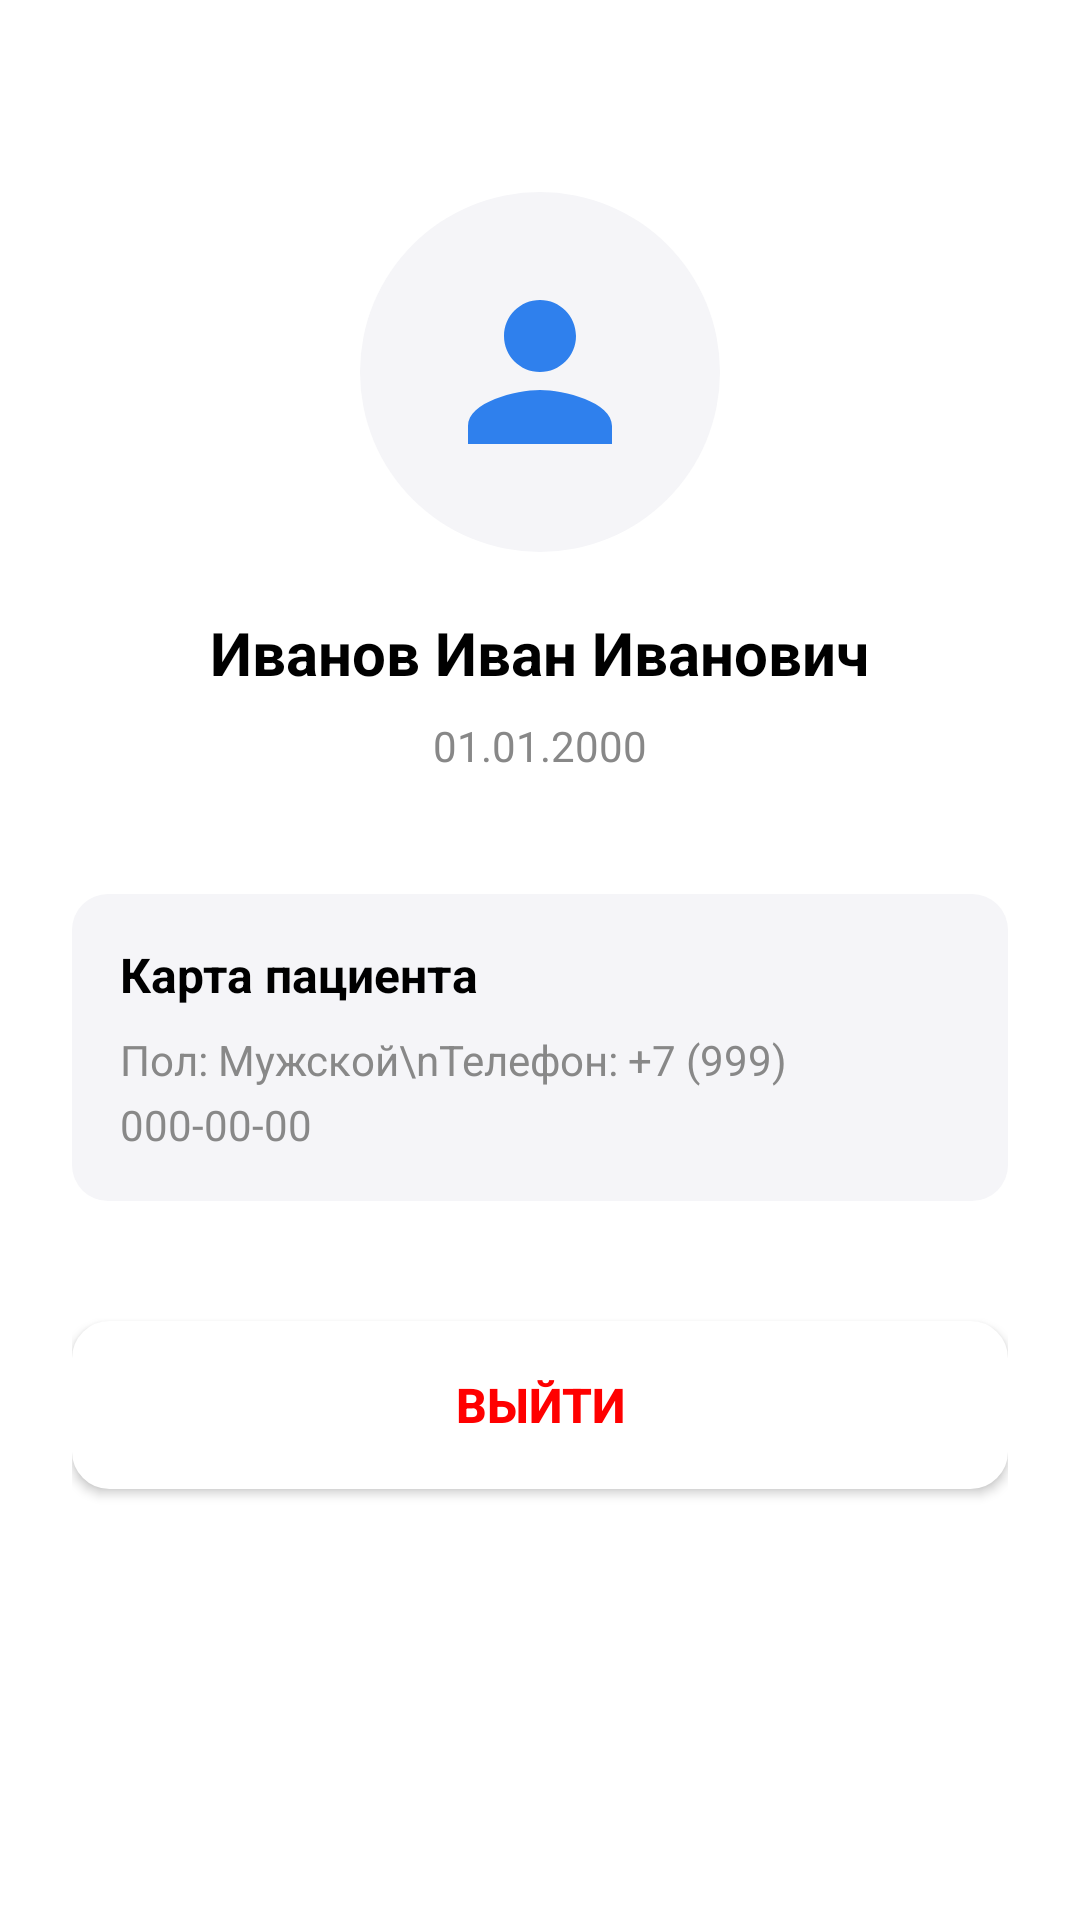

Icon click points for this 1080*1920 phone screenshot, format (x,y):
profile: (540,372)
